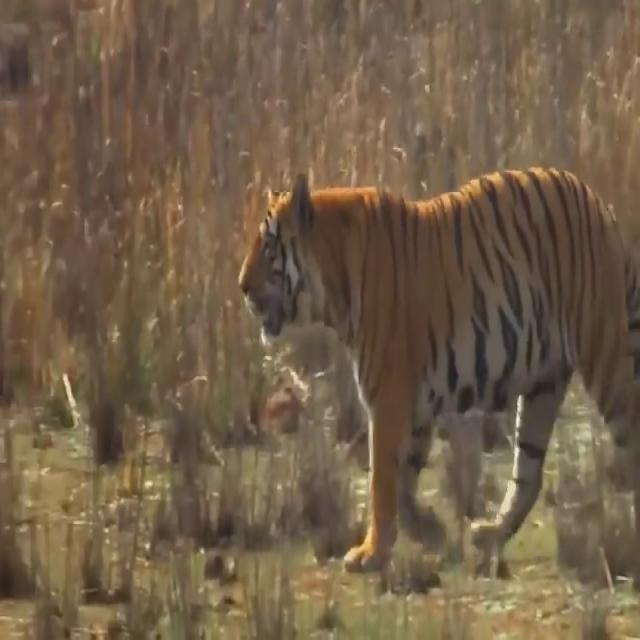tiger: (238, 167, 640, 576)
